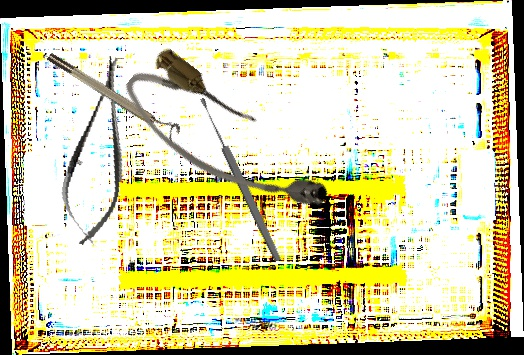Cannula: (112, 41, 340, 243)
Fixation Ring: (45, 44, 183, 145)
Micro Scissor: (52, 52, 146, 250)
Surgical Spoon: (197, 96, 284, 263)
